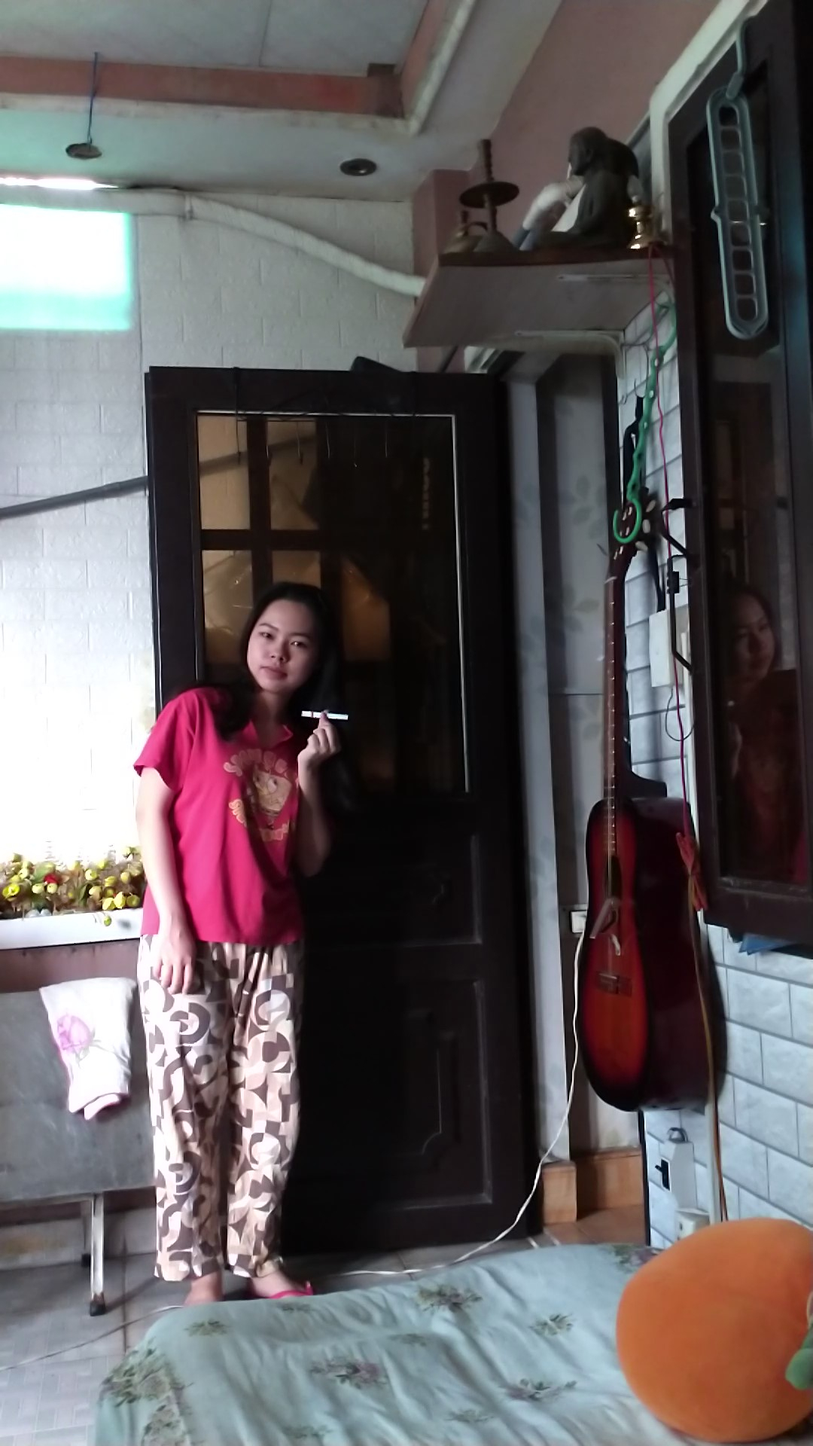cigarette: (298, 707, 353, 725)
person: (117, 575, 396, 1313)
